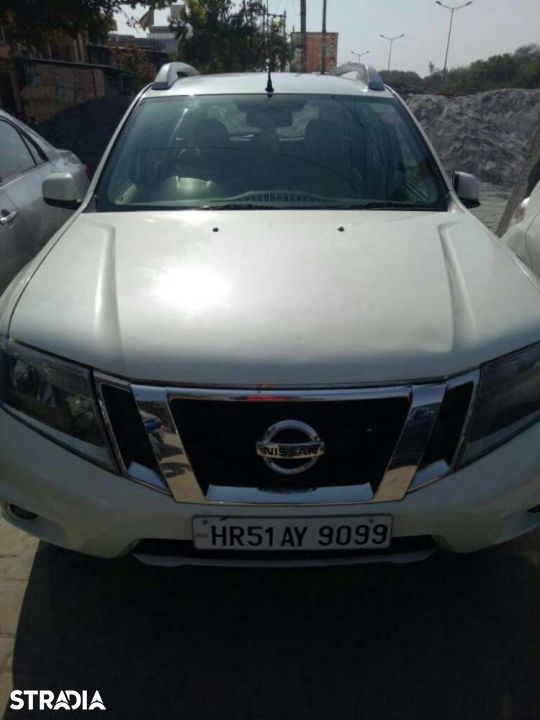number_plate: (191, 511, 394, 555)
